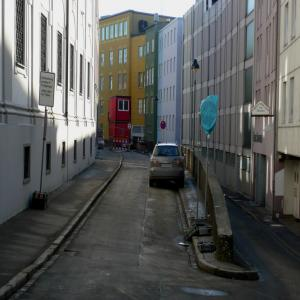Vehicle-registration-plate: (162, 165, 172, 169)
